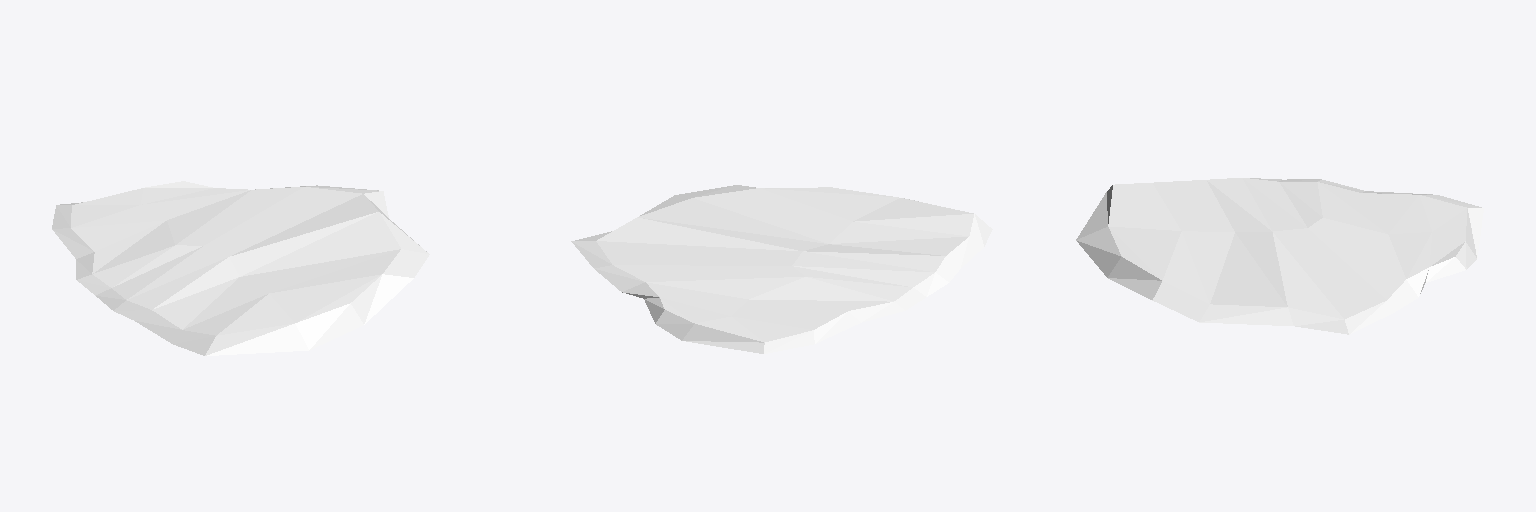
The model's file is SandPlateau2.obj.
The picture shows the model from 3 angles: view 1: azimuth 30°, elevation 25°; view 2: azimuth 150°, elevation 25°; view 3: azimuth 270°, elevation 25°; orthographic projection.
Parts seen in each view (by area): view 1: SandPlateau2; view 2: SandPlateau2; view 3: SandPlateau2.
Boxes of the visible parts, box(x1,y1,x2,y2) form: SandPlateau2: box(52, 181, 429, 355); SandPlateau2: box(571, 185, 992, 353); SandPlateau2: box(1076, 178, 1483, 334).
Size of the model in its own units: 274 by 18.33 by 299.